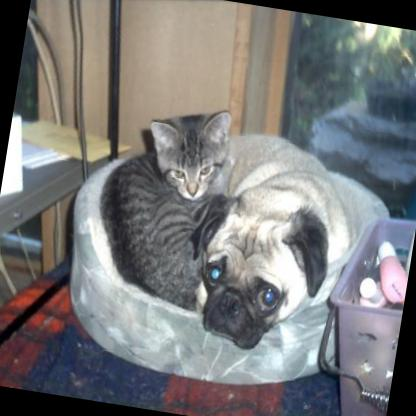pug: (170, 118, 370, 365)
